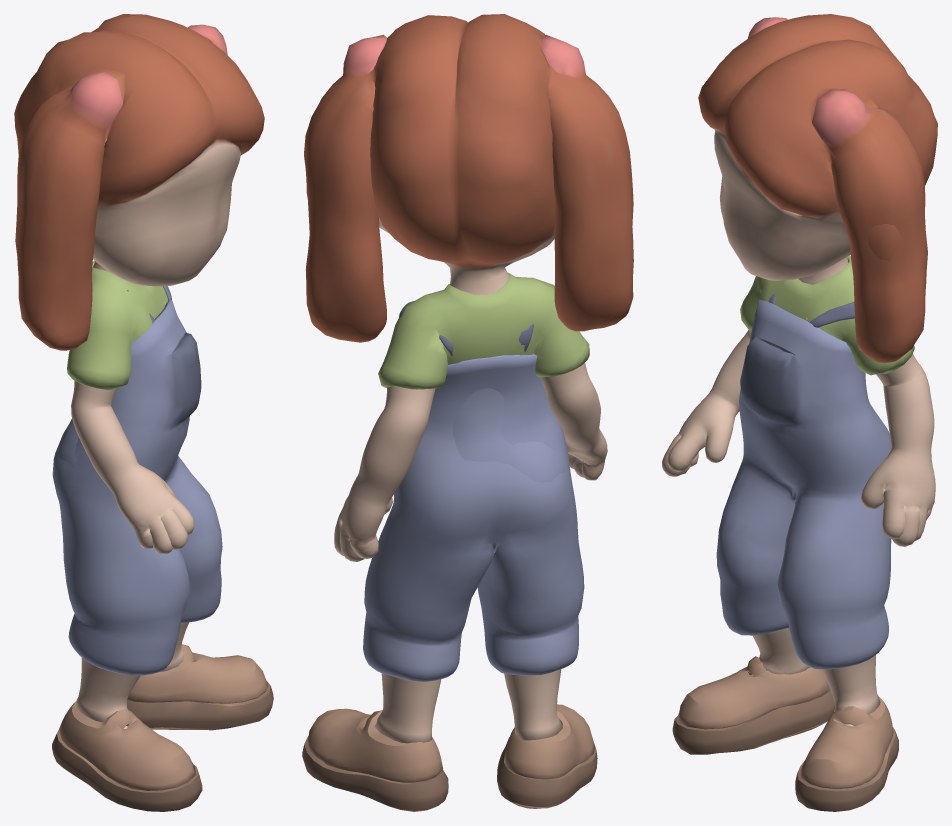
The picture shows the model from 3 angles, left to right: view 1: azimuth 30°, elevation 25°; view 2: azimuth 150°, elevation 25°; view 3: azimuth 270°, elevation 25°; orthographic projection. The views are drawn at different scales.
Parts seen in each view (by area): view 1: Arms.021; view 2: Arms.021; view 3: Arms.021.
Part boxes in pixels (left/top/right/bottom): Arms.021: left=14, top=14, right=273, bottom=811; Arms.021: left=302, top=14, right=633, bottom=811; Arms.021: left=662, top=14, right=937, bottom=811.
Bounding box in the file's own units: 64.97 × 164 × 56.46.
